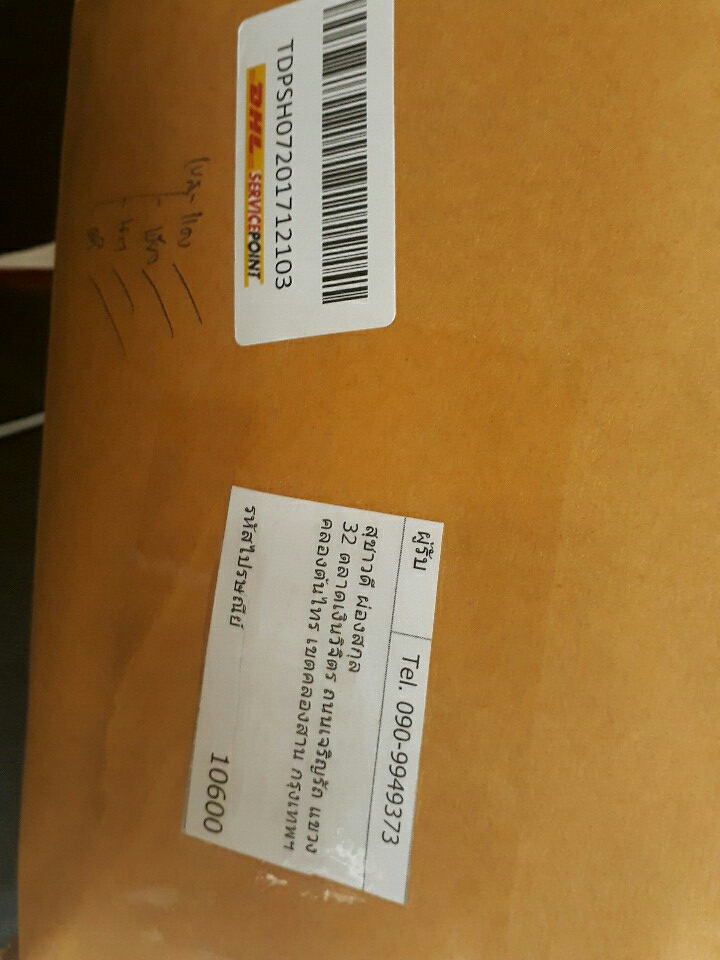ba: (223, 1, 405, 350)
txt: (200, 503, 437, 854)
